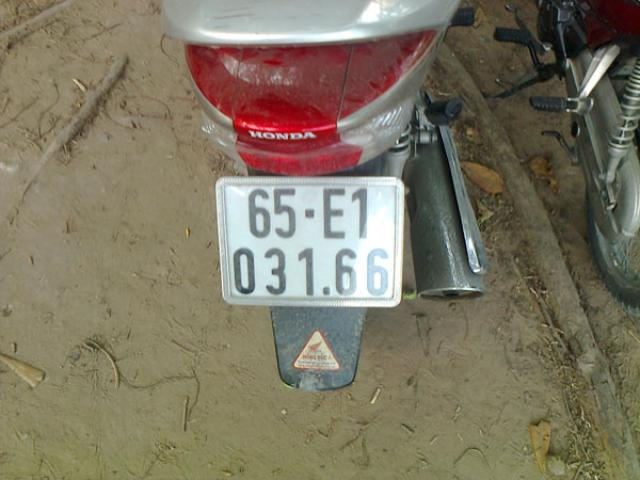plate: (218, 180, 398, 306)
